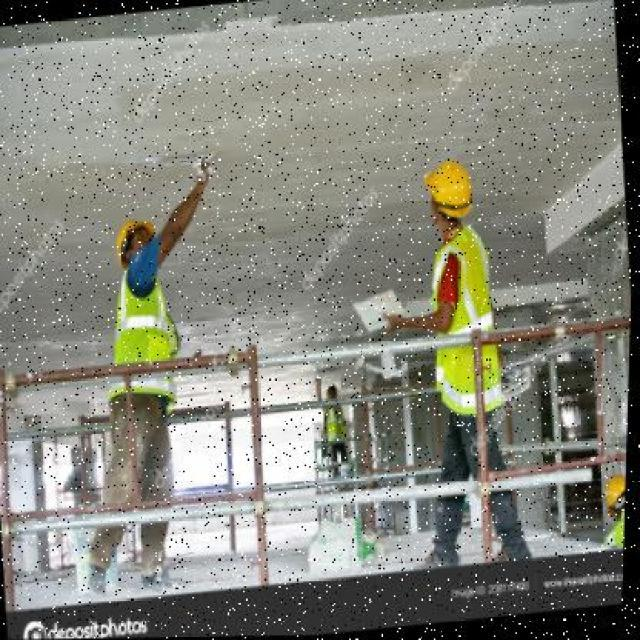helmet: (420, 158, 484, 226)
vest: (433, 235, 519, 423), (105, 273, 181, 406)
